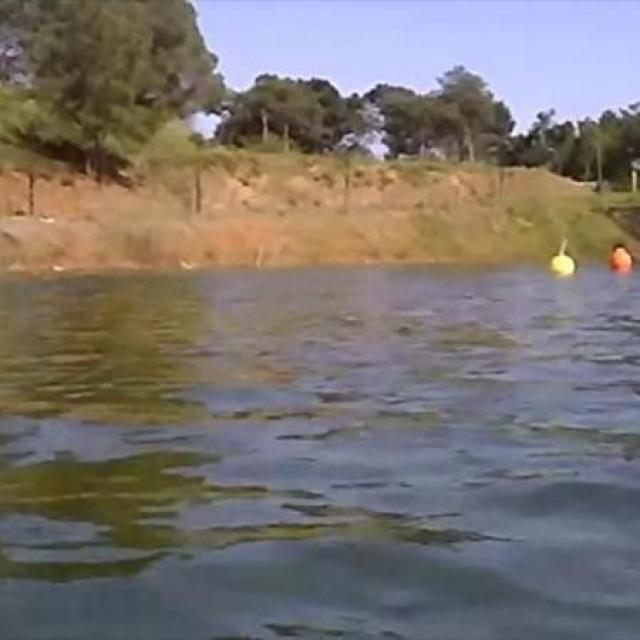buoy: (550, 251, 574, 278), (610, 247, 633, 272)
